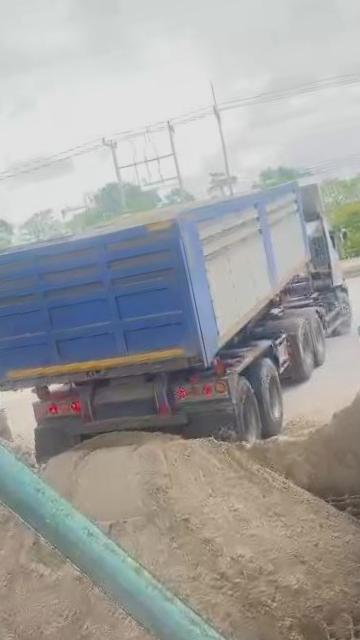sand: (43, 434, 360, 640), (0, 513, 171, 640), (251, 386, 360, 497), (81, 198, 220, 235)
